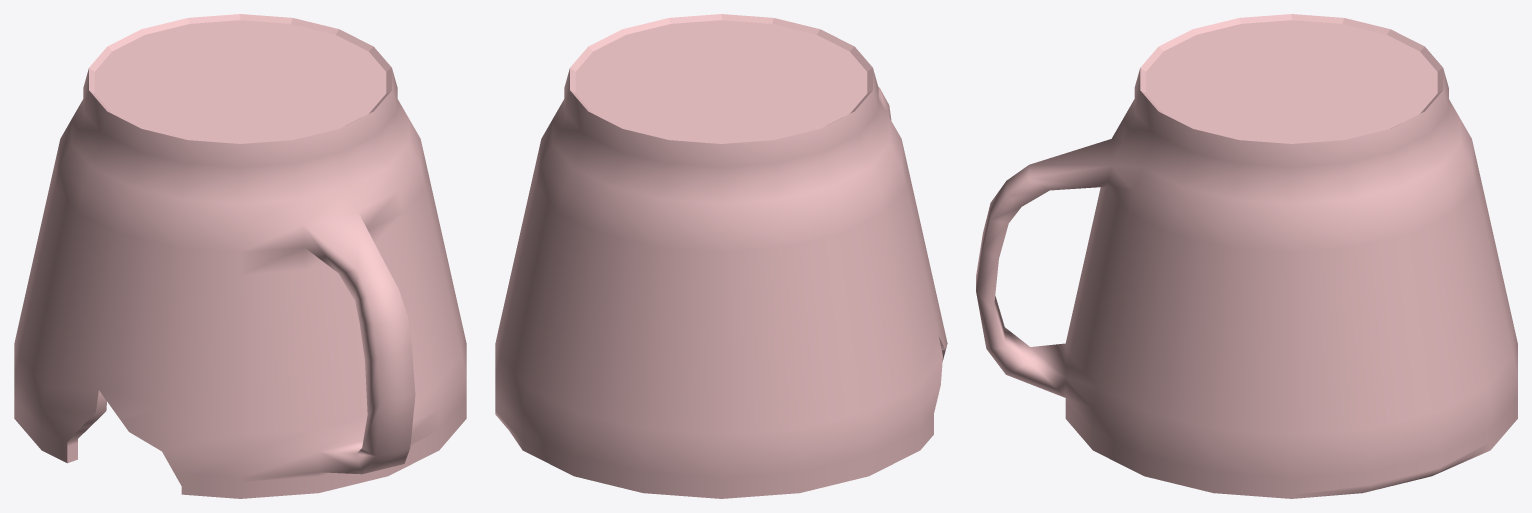
The model's file is tea_cup_cracked_flat_bottom.FBX.
The picture shows the model from 3 angles, left to right: view 1: azimuth 30°, elevation 25°; view 2: azimuth 150°, elevation 25°; view 3: azimuth 270°, elevation 25°; orthographic projection.
Parts seen in each view (by area): view 1: Cylinder001; view 2: Cylinder001; view 3: Cylinder001.
Part boxes in pixels (<box>): Cylinder001: <box>14,14,466,498</box>; Cylinder001: <box>495,14,947,498</box>; Cylinder001: <box>976,14,1517,498</box>.
Bounding box in the file's own units: 20 × 15.52 × 23.59.
